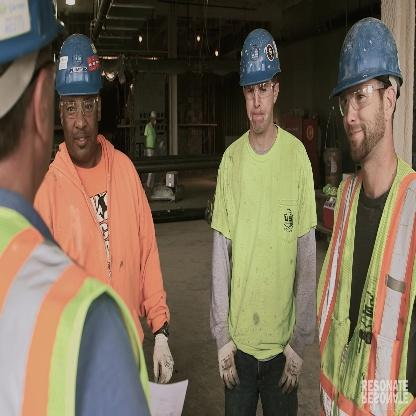helmet: (323, 13, 402, 168), (50, 34, 105, 151), (232, 31, 281, 133)
